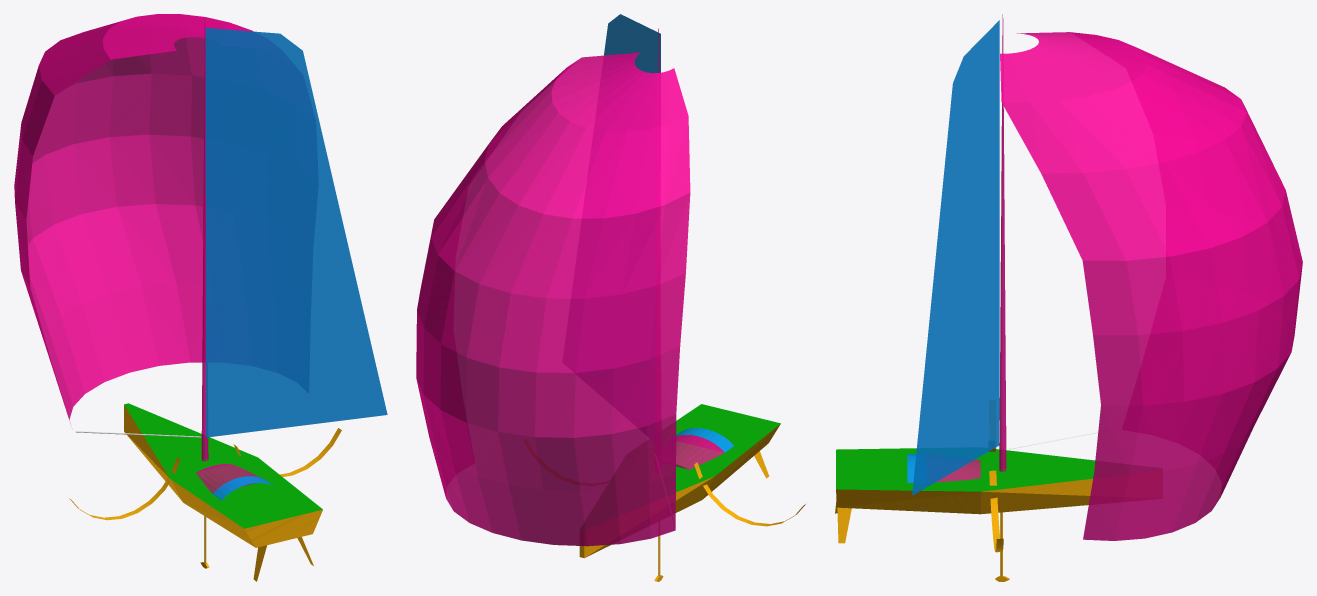
The model's file is IMOCA_SPI_BABORD.dae.
3 views of the same model, side by side, from view 1: azimuth 30°, elevation 25°; view 2: azimuth 150°, elevation 25°; view 3: azimuth 270°, elevation 25° (orthographic). The views are drawn at different scales.
Visible parts, largest first — view 1: SketchUp (×8); view 2: SketchUp (×6); view 3: SketchUp (×5).
Boxes of the visible parts, x1=… form: SketchUp (×8): x1=14, y1=14, x2=387, y2=547; SketchUp (×6): x1=416, y1=14, x2=780, y2=558; SketchUp (×5): x1=836, y1=14, x2=1302, y2=540.
Bounding box in the file's own units: 77278 × 101354 × 135626.
